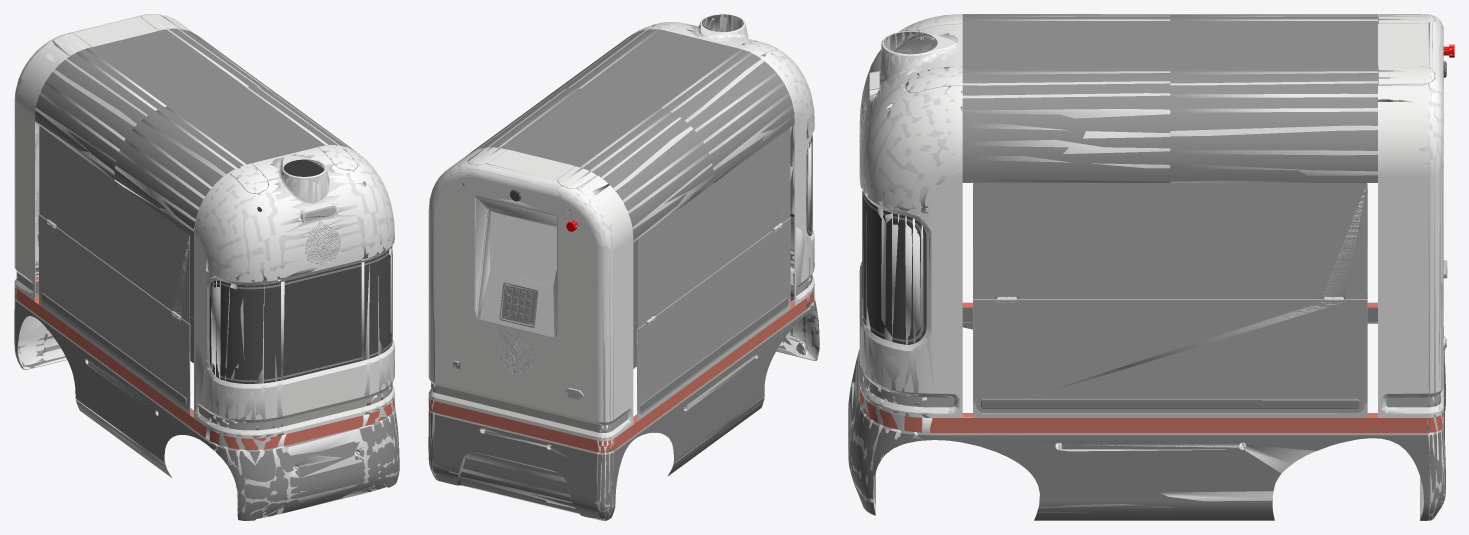
The model's file is FTD_mesh_collider.fbx.
3 renders of one model, left to right at view 1: azimuth 30°, elevation 25°; view 2: azimuth 150°, elevation 25°; view 3: azimuth 270°, elevation 25°, orthographic. The views are drawn at different scales.
Visible parts, largest first — view 1: 防水用カバー, 防水用カバー.001; view 2: 防水用カバー, 防水用カバー.001; view 3: 防水用カバー, 防水用カバー.001.
Part boxes in pixels (box(x1,y1,x2,y2)): 防水用カバー: box(14, 14, 399, 520); 防水用カバー.001: box(14, 14, 399, 520); 防水用カバー: box(428, 14, 819, 520); 防水用カバー.001: box(428, 14, 819, 520); 防水用カバー: box(848, 14, 1454, 520); 防水用カバー.001: box(848, 14, 1454, 520).
Bounding box in the file's own units: 51.02 × 85.54 × 111.
